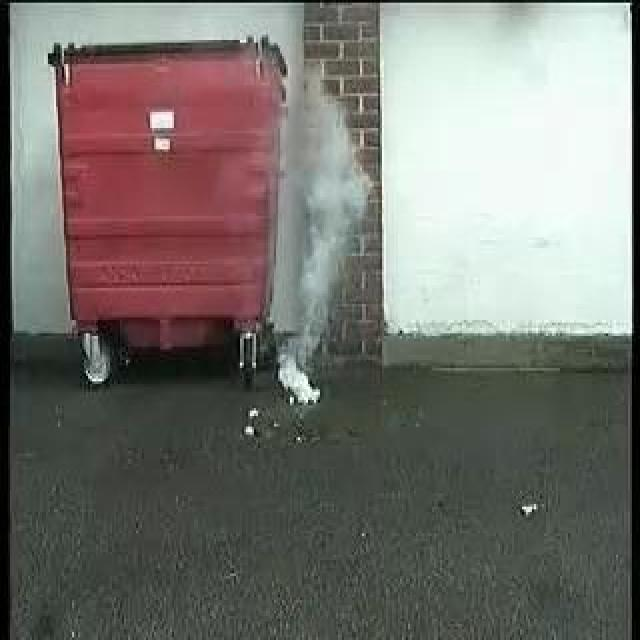Smoke: (276, 75, 372, 402)
